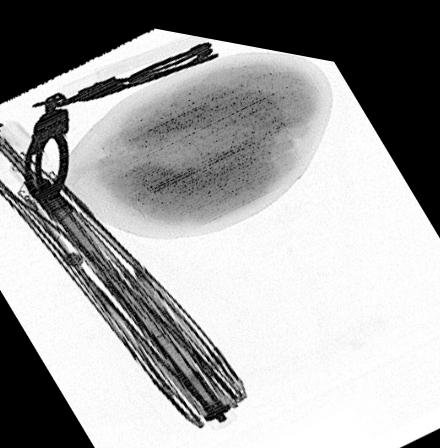HandCuffs: (20, 31, 219, 199)
